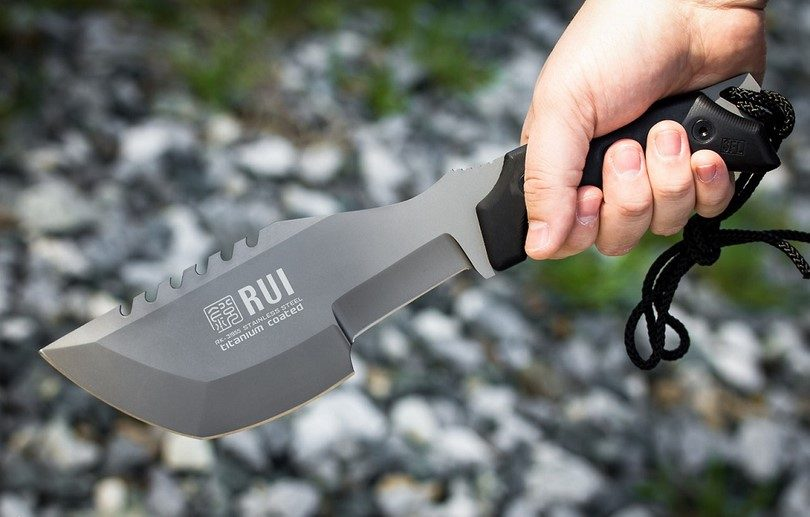knife: (20, 130, 582, 464)
